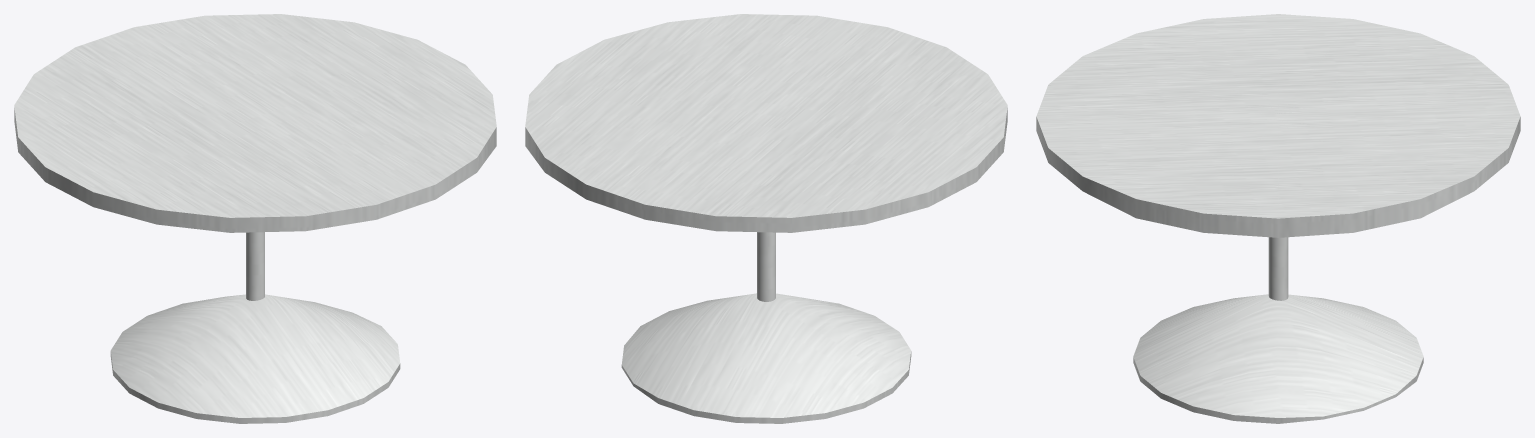
The model's file is mesa.obj.
3 renders of one model, left to right at view 1: azimuth 30°, elevation 25°; view 2: azimuth 150°, elevation 25°; view 3: azimuth 270°, elevation 25°, orthographic.
Visible parts, largest first — view 1: mesa_initialShadingGroup.002; view 2: mesa_initialShadingGroup.002; view 3: mesa_initialShadingGroup.002.
Part boxes in pixels (box(x1,y1,x2,y2)): mesa_initialShadingGroup.002: box(14, 14, 496, 423); mesa_initialShadingGroup.002: box(525, 14, 1007, 423); mesa_initialShadingGroup.002: box(1036, 14, 1520, 423).
Size of the model in its own units: 10 by 5.61 by 10.
Materials: 1 (1 with a texture image).
